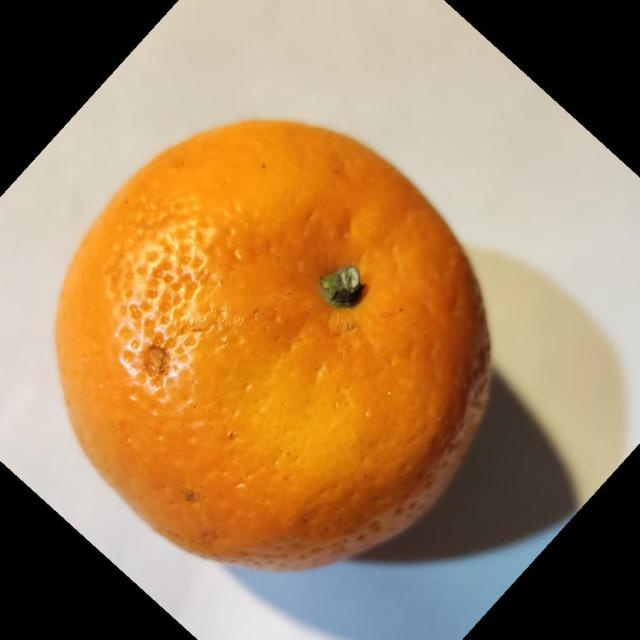agrume: (53, 116, 493, 572)
